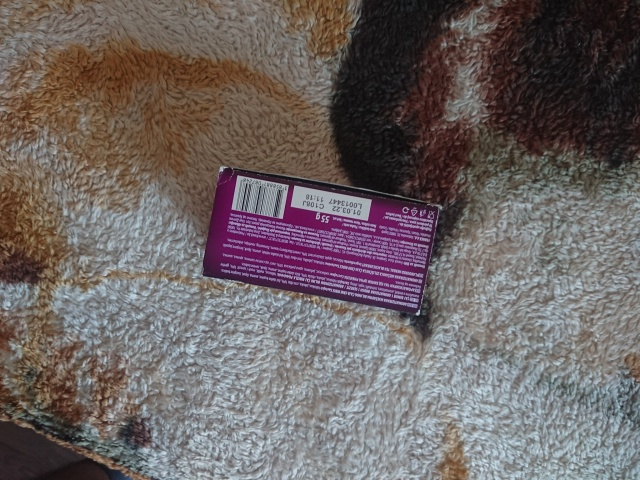Franck Black Currant Tea 60g: (199, 163, 445, 318)
